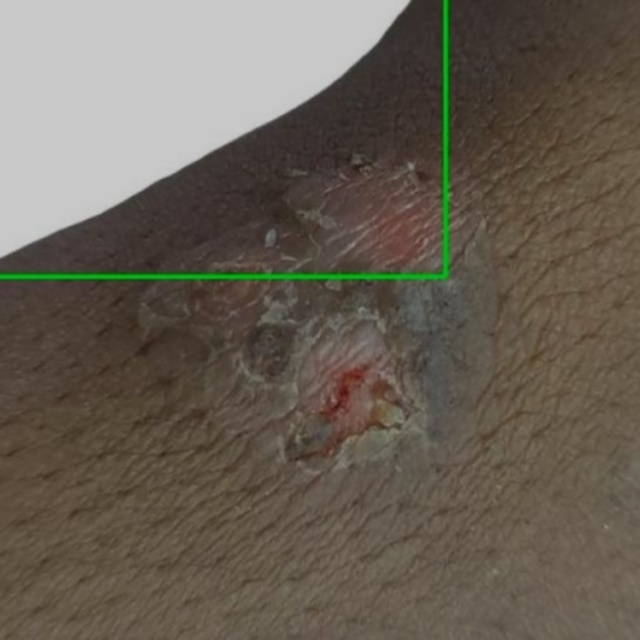Contact Dermatitis: (0, 0, 445, 276)
